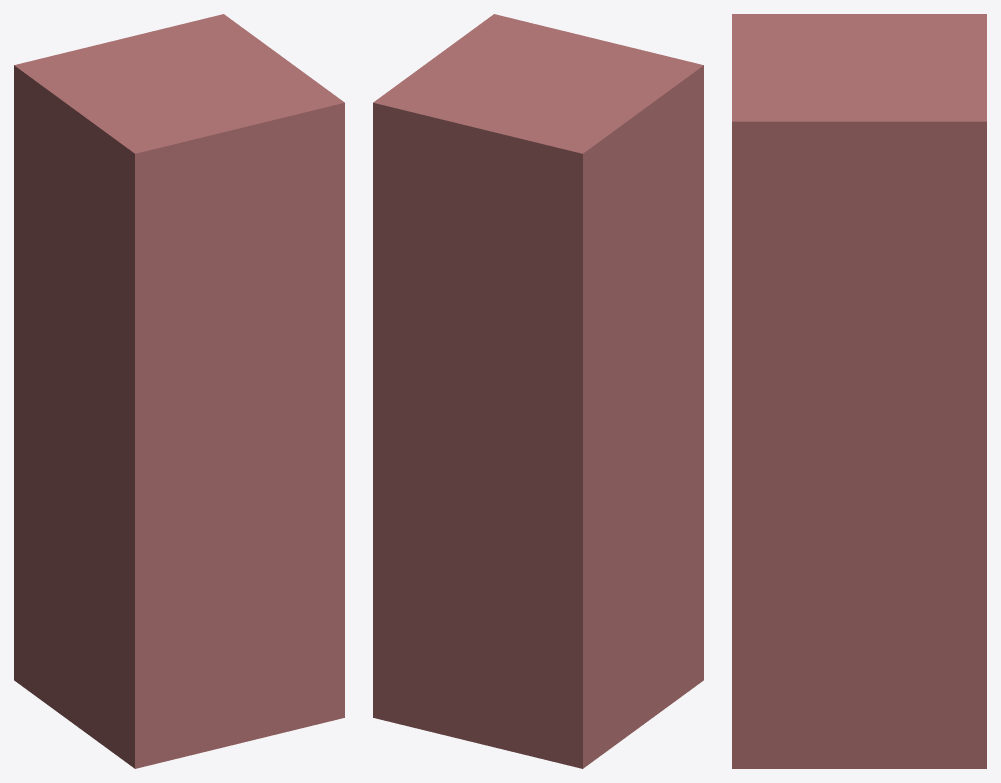
File: building4.fbx
3 renders of one model, left to right at view 1: azimuth 30°, elevation 25°; view 2: azimuth 150°, elevation 25°; view 3: azimuth 270°, elevation 25°, orthographic. The views are drawn at different scales.
Parts seen in each view (by area): view 1: mid_building; view 2: mid_building; view 3: mid_building.
Part boxes in pixels (<box>): mid_building: <box>14,14,344,768</box>; mid_building: <box>373,14,703,768</box>; mid_building: <box>732,14,986,768</box>.
Bounding box in the file's own units: 8 × 22.41 × 8.
